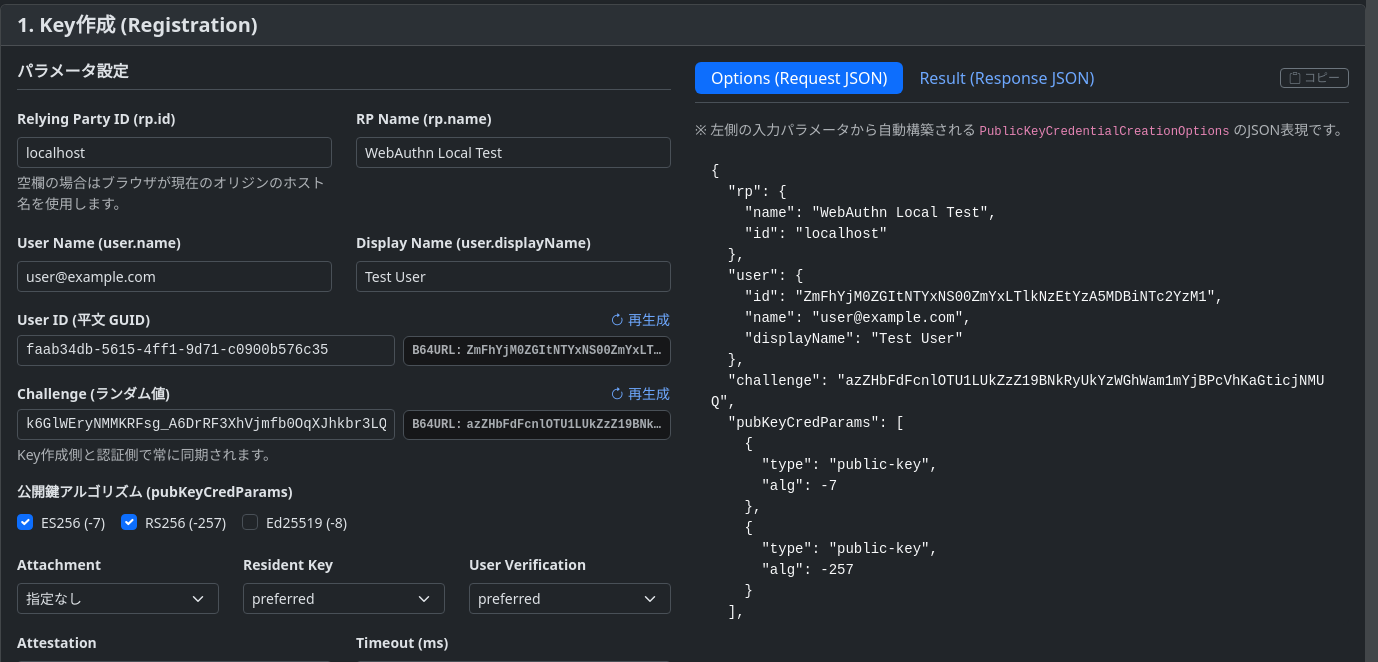
Test case: DevelopFido.vue › synchronizes challenge between registration and authentication and encodes to Base64URL in JSON
Note: Updating registration challenge syncs to authentication and encodes in label & JSON
Replace the text in the field with id "regChallenge" with "test-challenge-val" at (206, 425), box [17,409,395,440]
(page scrolled)
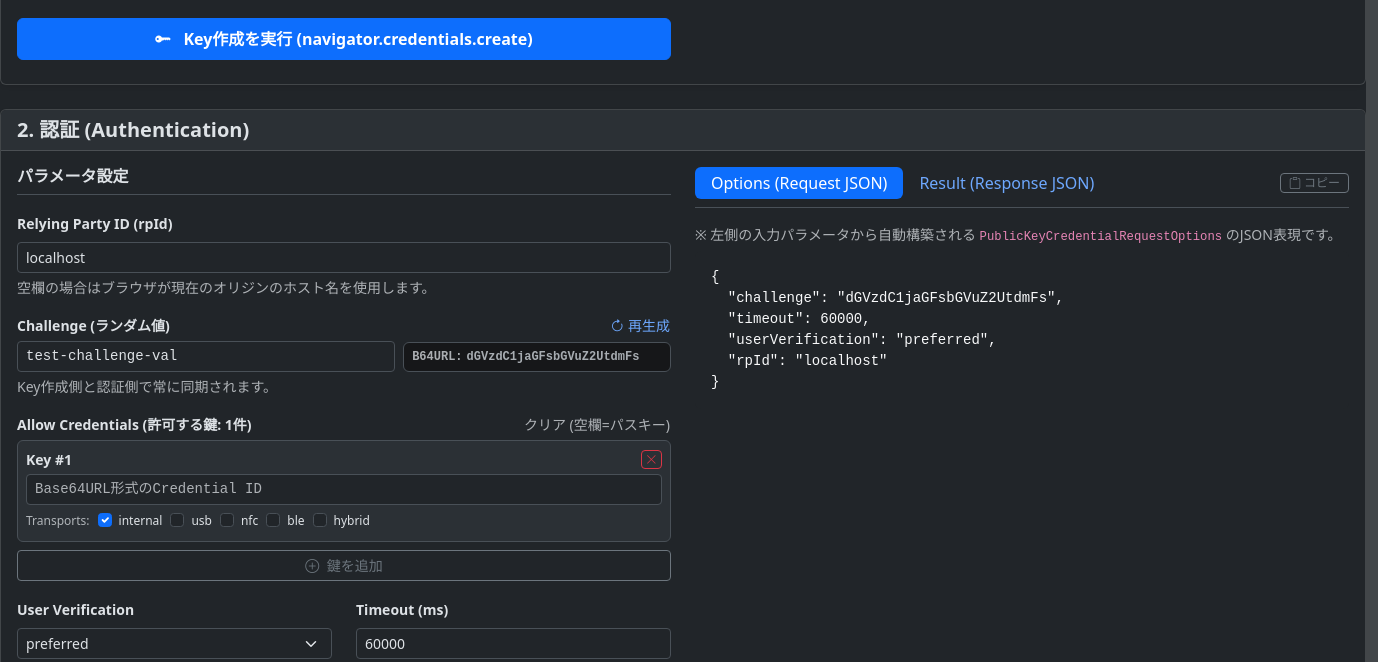
Now the field with id "authChallenge" holds "test-challenge-val"
Now the text with id "authOptionsJson" shows "\"challenge\": \"dGVzdC1jaGFsbGVuZ2UtdmFs\"", box [711,269,1064,390]
Note: Updating authentication challenge syncs back to registration
Replace the text in the field with id "authChallenge" with "custom-synced-challenge-2" at (206, 357), box [17,341,395,372]
(page scrolled)
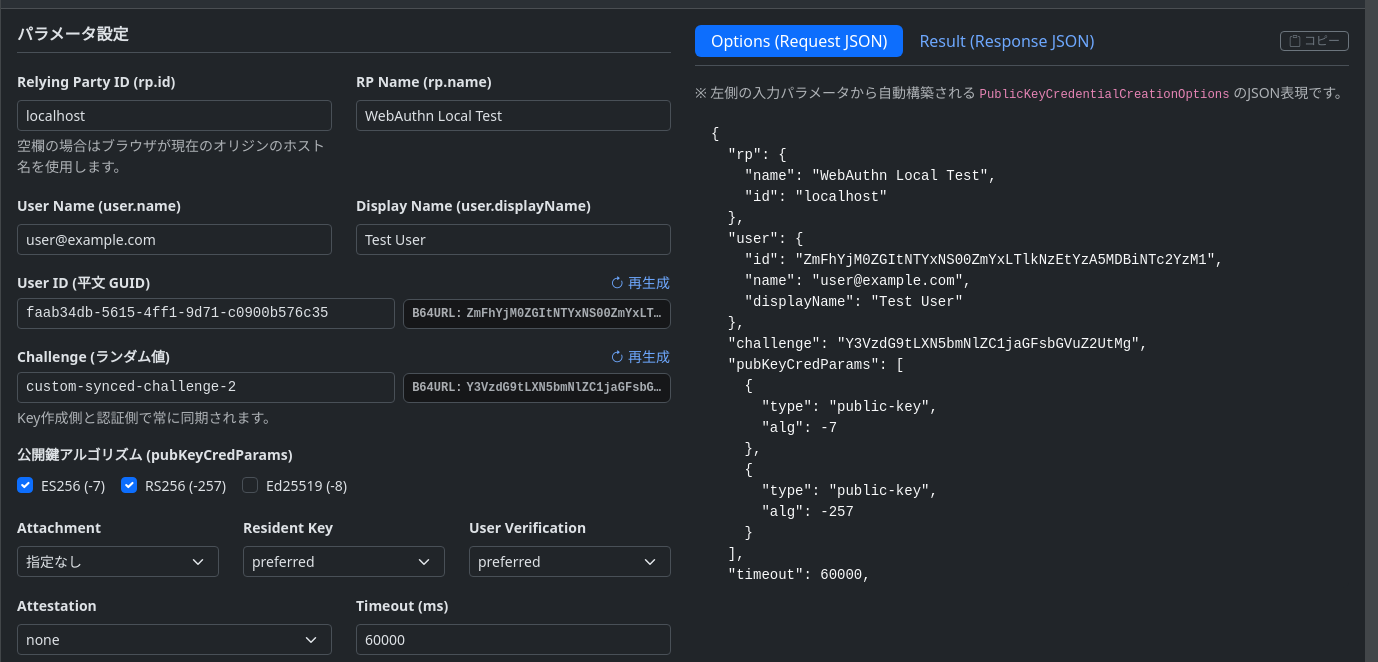
Now the field with id "regChallenge" holds "custom-synced-challenge-2", box [17,372,395,403]
Click the 2nd button "再生成" at (640, 357), box [609,345,671,368]
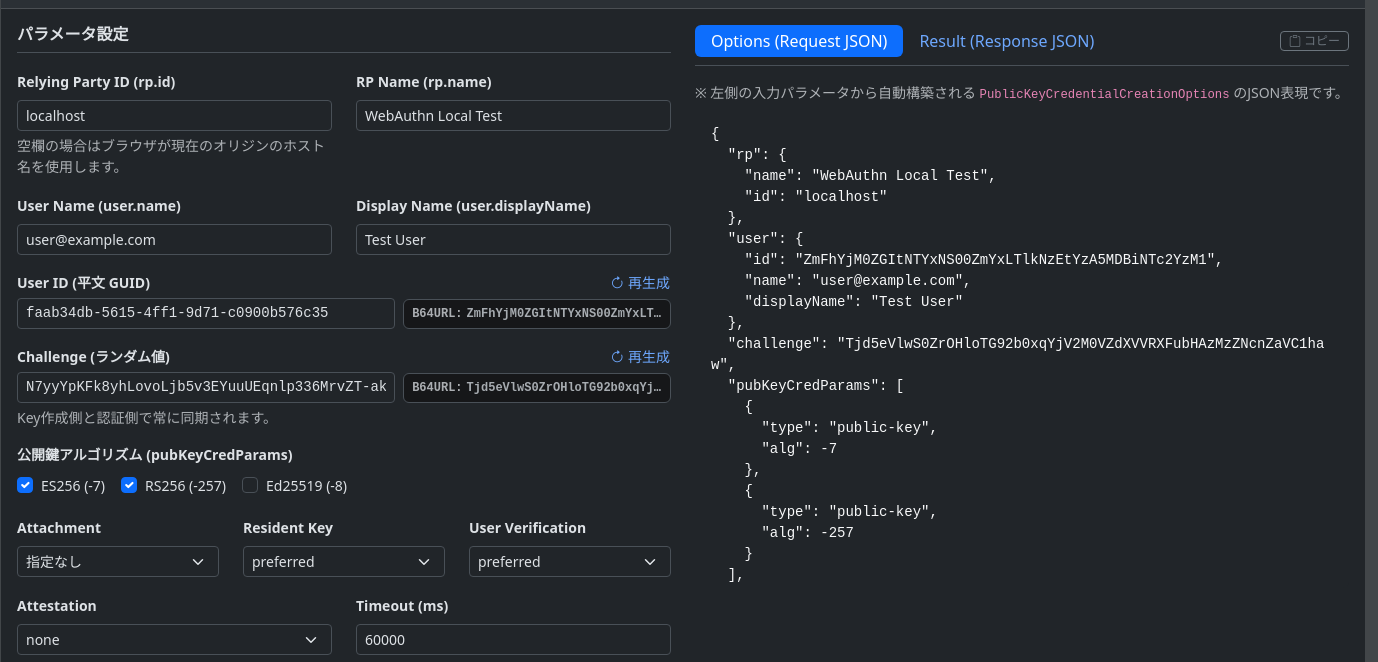
Now the field with id "regChallenge" does not hold "custom-synced-challenge-2", box [17,372,395,403]
